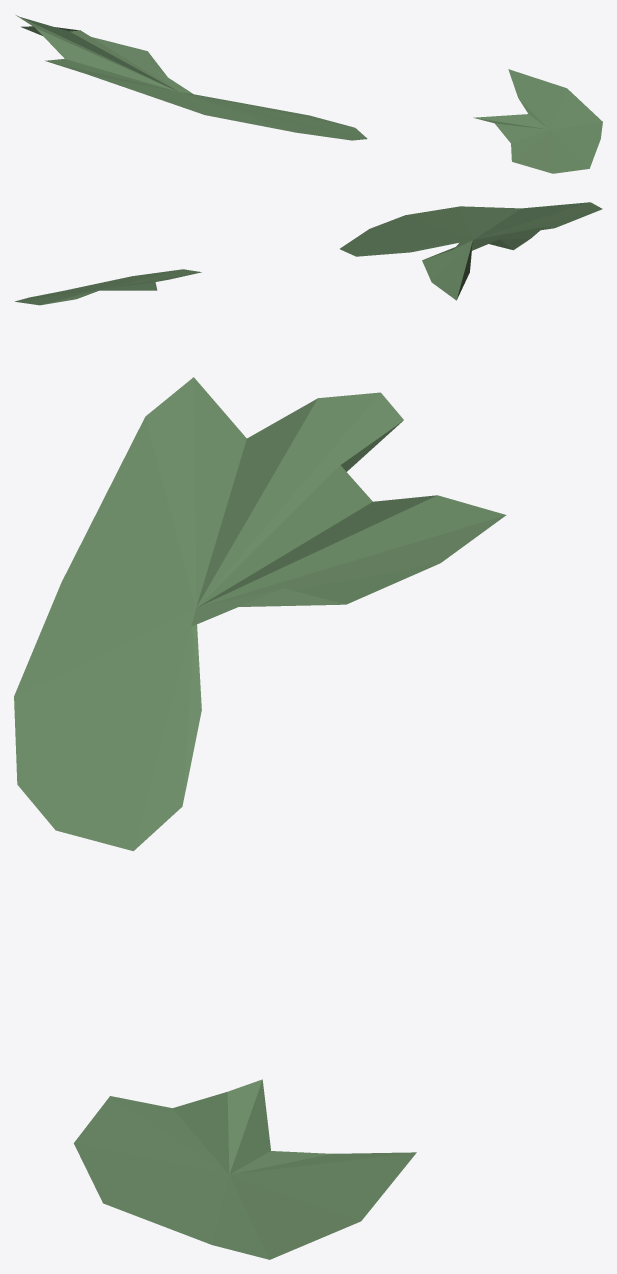
Rendered from c_1668_17819_forest.glb.
3 renders of one model, top to bottom at view 1: azimuth 30°, elevation 25°; view 2: azimuth 150°, elevation 25°; view 3: azimuth 270°, elevation 25°, orthographic. The views are drawn at different scales.
Visible parts, largest first — view 1: geometry_0; view 2: geometry_0; view 3: geometry_0.
Boxes of the visible parts, x1=… form: geometry_0: x1=16, y1=15, x2=602, y2=173; geometry_0: x1=15, y1=202, x2=602, y2=305; geometry_0: x1=14, y1=377, x2=506, y2=1259.
Bounding box in the file's own units: 245 × 89.24 × 122.
